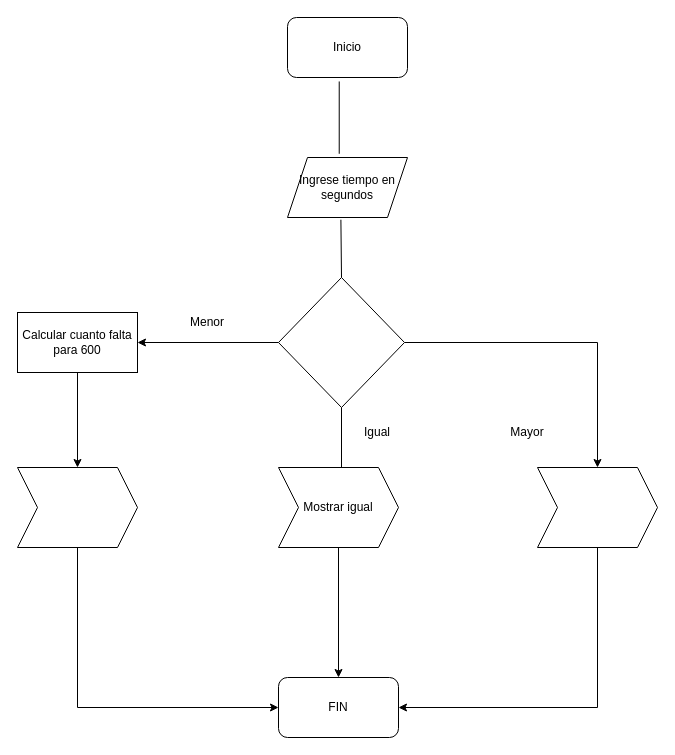
The diagram is 675 pixels wide and 755 high, and some of its shapes have lost their labels. Each missing label, with the box of its shape:
Mostrar mayor: (536, 466, 658, 548)
Mostrar segundos faltantes: (16, 466, 138, 548)
Tiempo < 600 o Tiempo > 600 o Tiempo == 600?: (278, 276, 404, 408)
